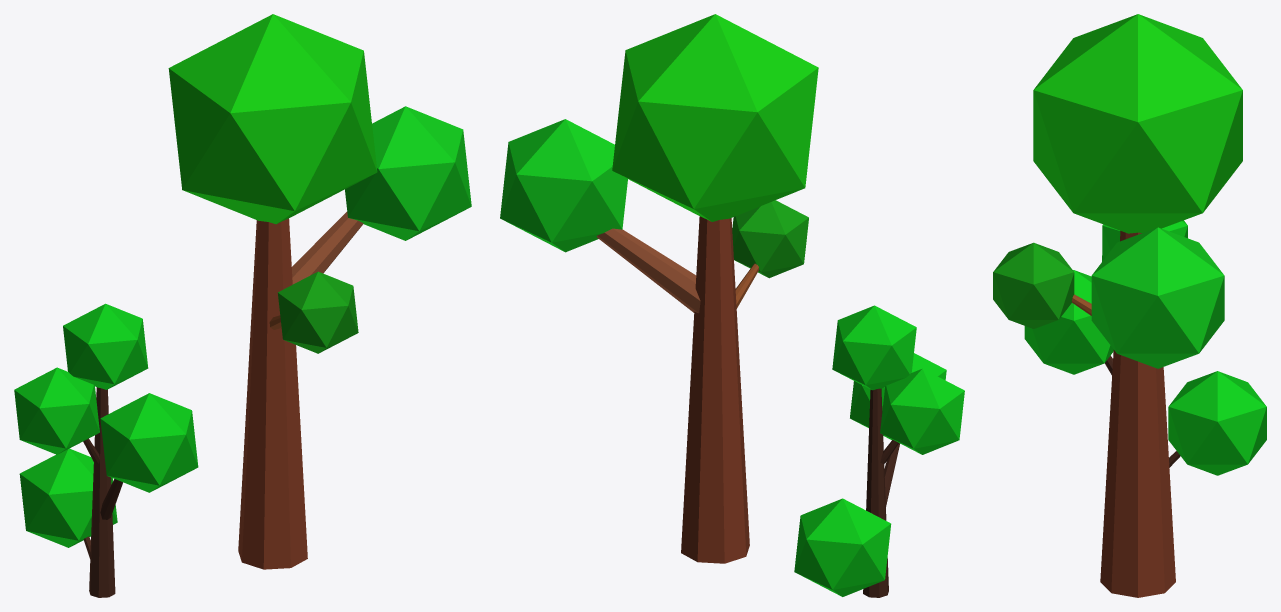
Rendered from arbol 2.obj.
The picture shows the model from 3 angles, left to right: view 1: azimuth 30°, elevation 25°; view 2: azimuth 150°, elevation 25°; view 3: azimuth 270°, elevation 25°; orthographic projection. The views are drawn at different scales.
Parts seen in each view (by area): view 1: 2_Cylinder.002, Icosphere_Icosphere.003, 1_Cylinder.010; view 2: 2_Cylinder.002, Icosphere_Icosphere.003, 1_Cylinder.010; view 3: 2_Cylinder.002, Icosphere_Icosphere.003.
Part boxes in pixels (<box>): 2_Cylinder.002: <box>168,14,471,569</box>; Icosphere_Icosphere.003: <box>14,303,198,547</box>; 1_Cylinder.010: <box>83,387,122,597</box>; 2_Cylinder.002: <box>500,14,818,563</box>; Icosphere_Icosphere.003: <box>794,305,964,596</box>; 1_Cylinder.010: <box>863,388,899,597</box>; 2_Cylinder.002: <box>993,14,1242,597</box>; Icosphere_Icosphere.003: <box>1024,220,1266,475</box>.
Size of the model in its own units: 6.44 by 7.4 by 3.23.
